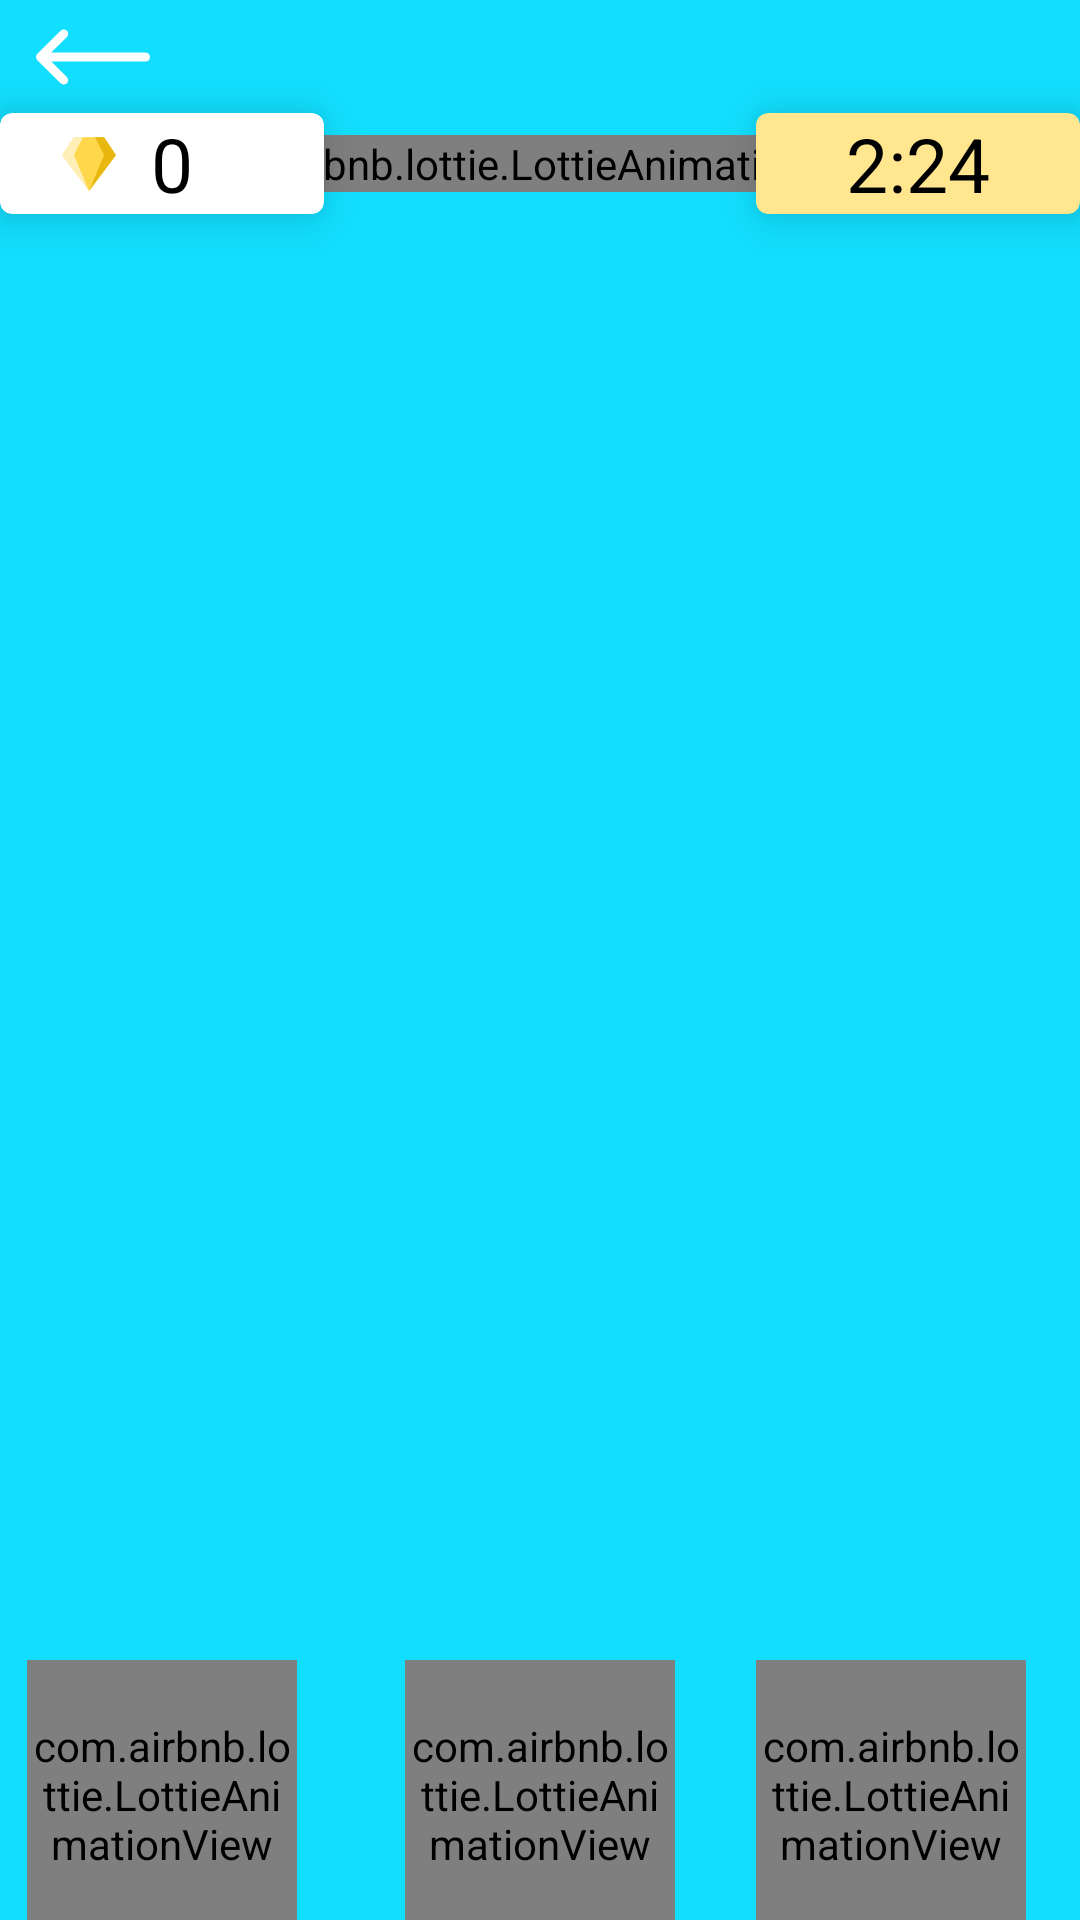

Icons on this 1080px x 1920px Android screen, each with the point to tap as [x,y]:
points: [89,164]
